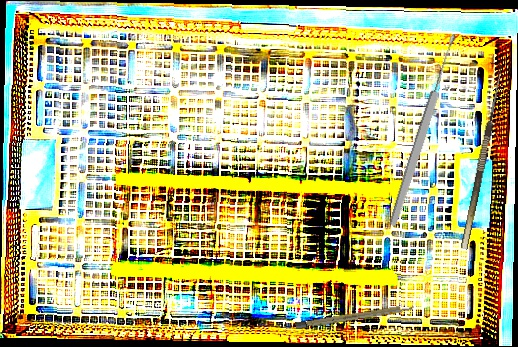Hook Surgical: (450, 62, 507, 250)
Scalpel Handle: (295, 303, 415, 330)
Surgical Spoon: (386, 31, 461, 229)
